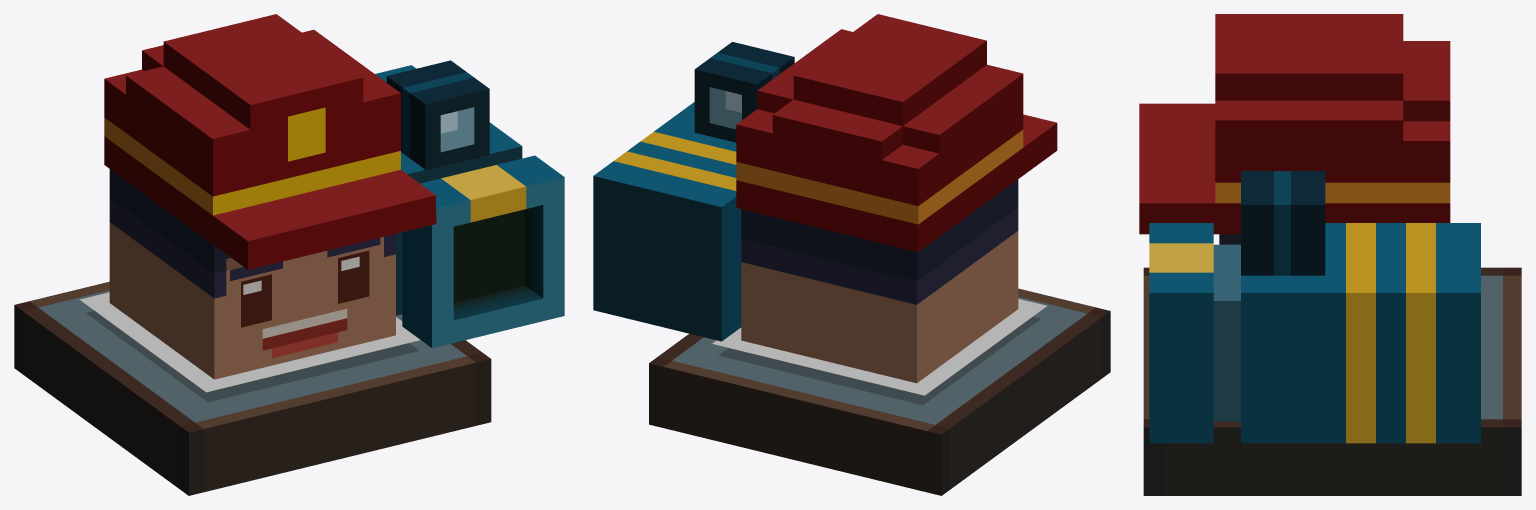
The model's file is Tower_Soldier_LVL4.fbx.
3 renders of one model, left to right at view 1: azimuth 30°, elevation 25°; view 2: azimuth 150°, elevation 25°; view 3: azimuth 270°, elevation 25°, orthographic. The views are drawn at different scales.
Visible parts, largest first — view 1: Hat, Base, Body, Weapon, Scope, shadow; view 2: Hat, Base, Body, Weapon, Scope, shadow; view 3: Weapon, Hat, Base, Scope.
Part boxes in pixels (x1,y1,x2,y2): Hat: [104, 14, 436, 269]; Base: [14, 281, 491, 495]; Body: [109, 169, 395, 379]; Weapon: [375, 65, 564, 348]; Scope: [386, 60, 489, 170]; shadow: [79, 292, 420, 392]; Hat: [736, 14, 1057, 252]; Base: [649, 288, 1110, 495]; Body: [741, 179, 1018, 383]; Weapon: [593, 102, 741, 341]; Scope: [694, 42, 794, 142]; shadow: [712, 298, 1047, 395]; Weapon: [1149, 223, 1480, 443]; Hat: [1139, 14, 1450, 234]; Base: [1143, 267, 1521, 495]; Scope: [1241, 171, 1325, 275].
Size of the model in its own units: 125 by 109 by 101.
